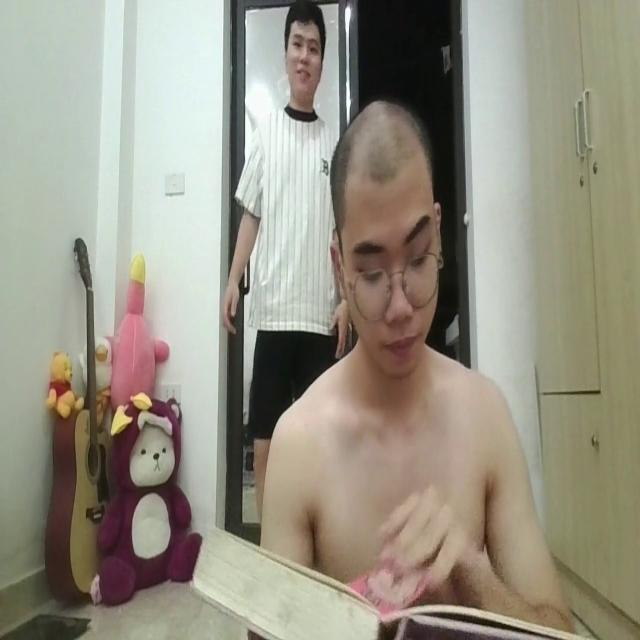book: (174, 511, 574, 640)
extra_person: (209, 4, 359, 540)
student: (268, 109, 570, 639)
